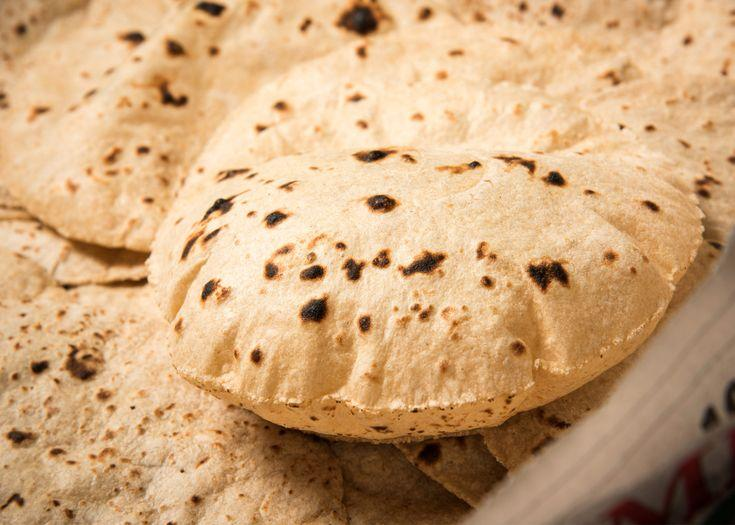roti phulka: (2, 3, 735, 444)
